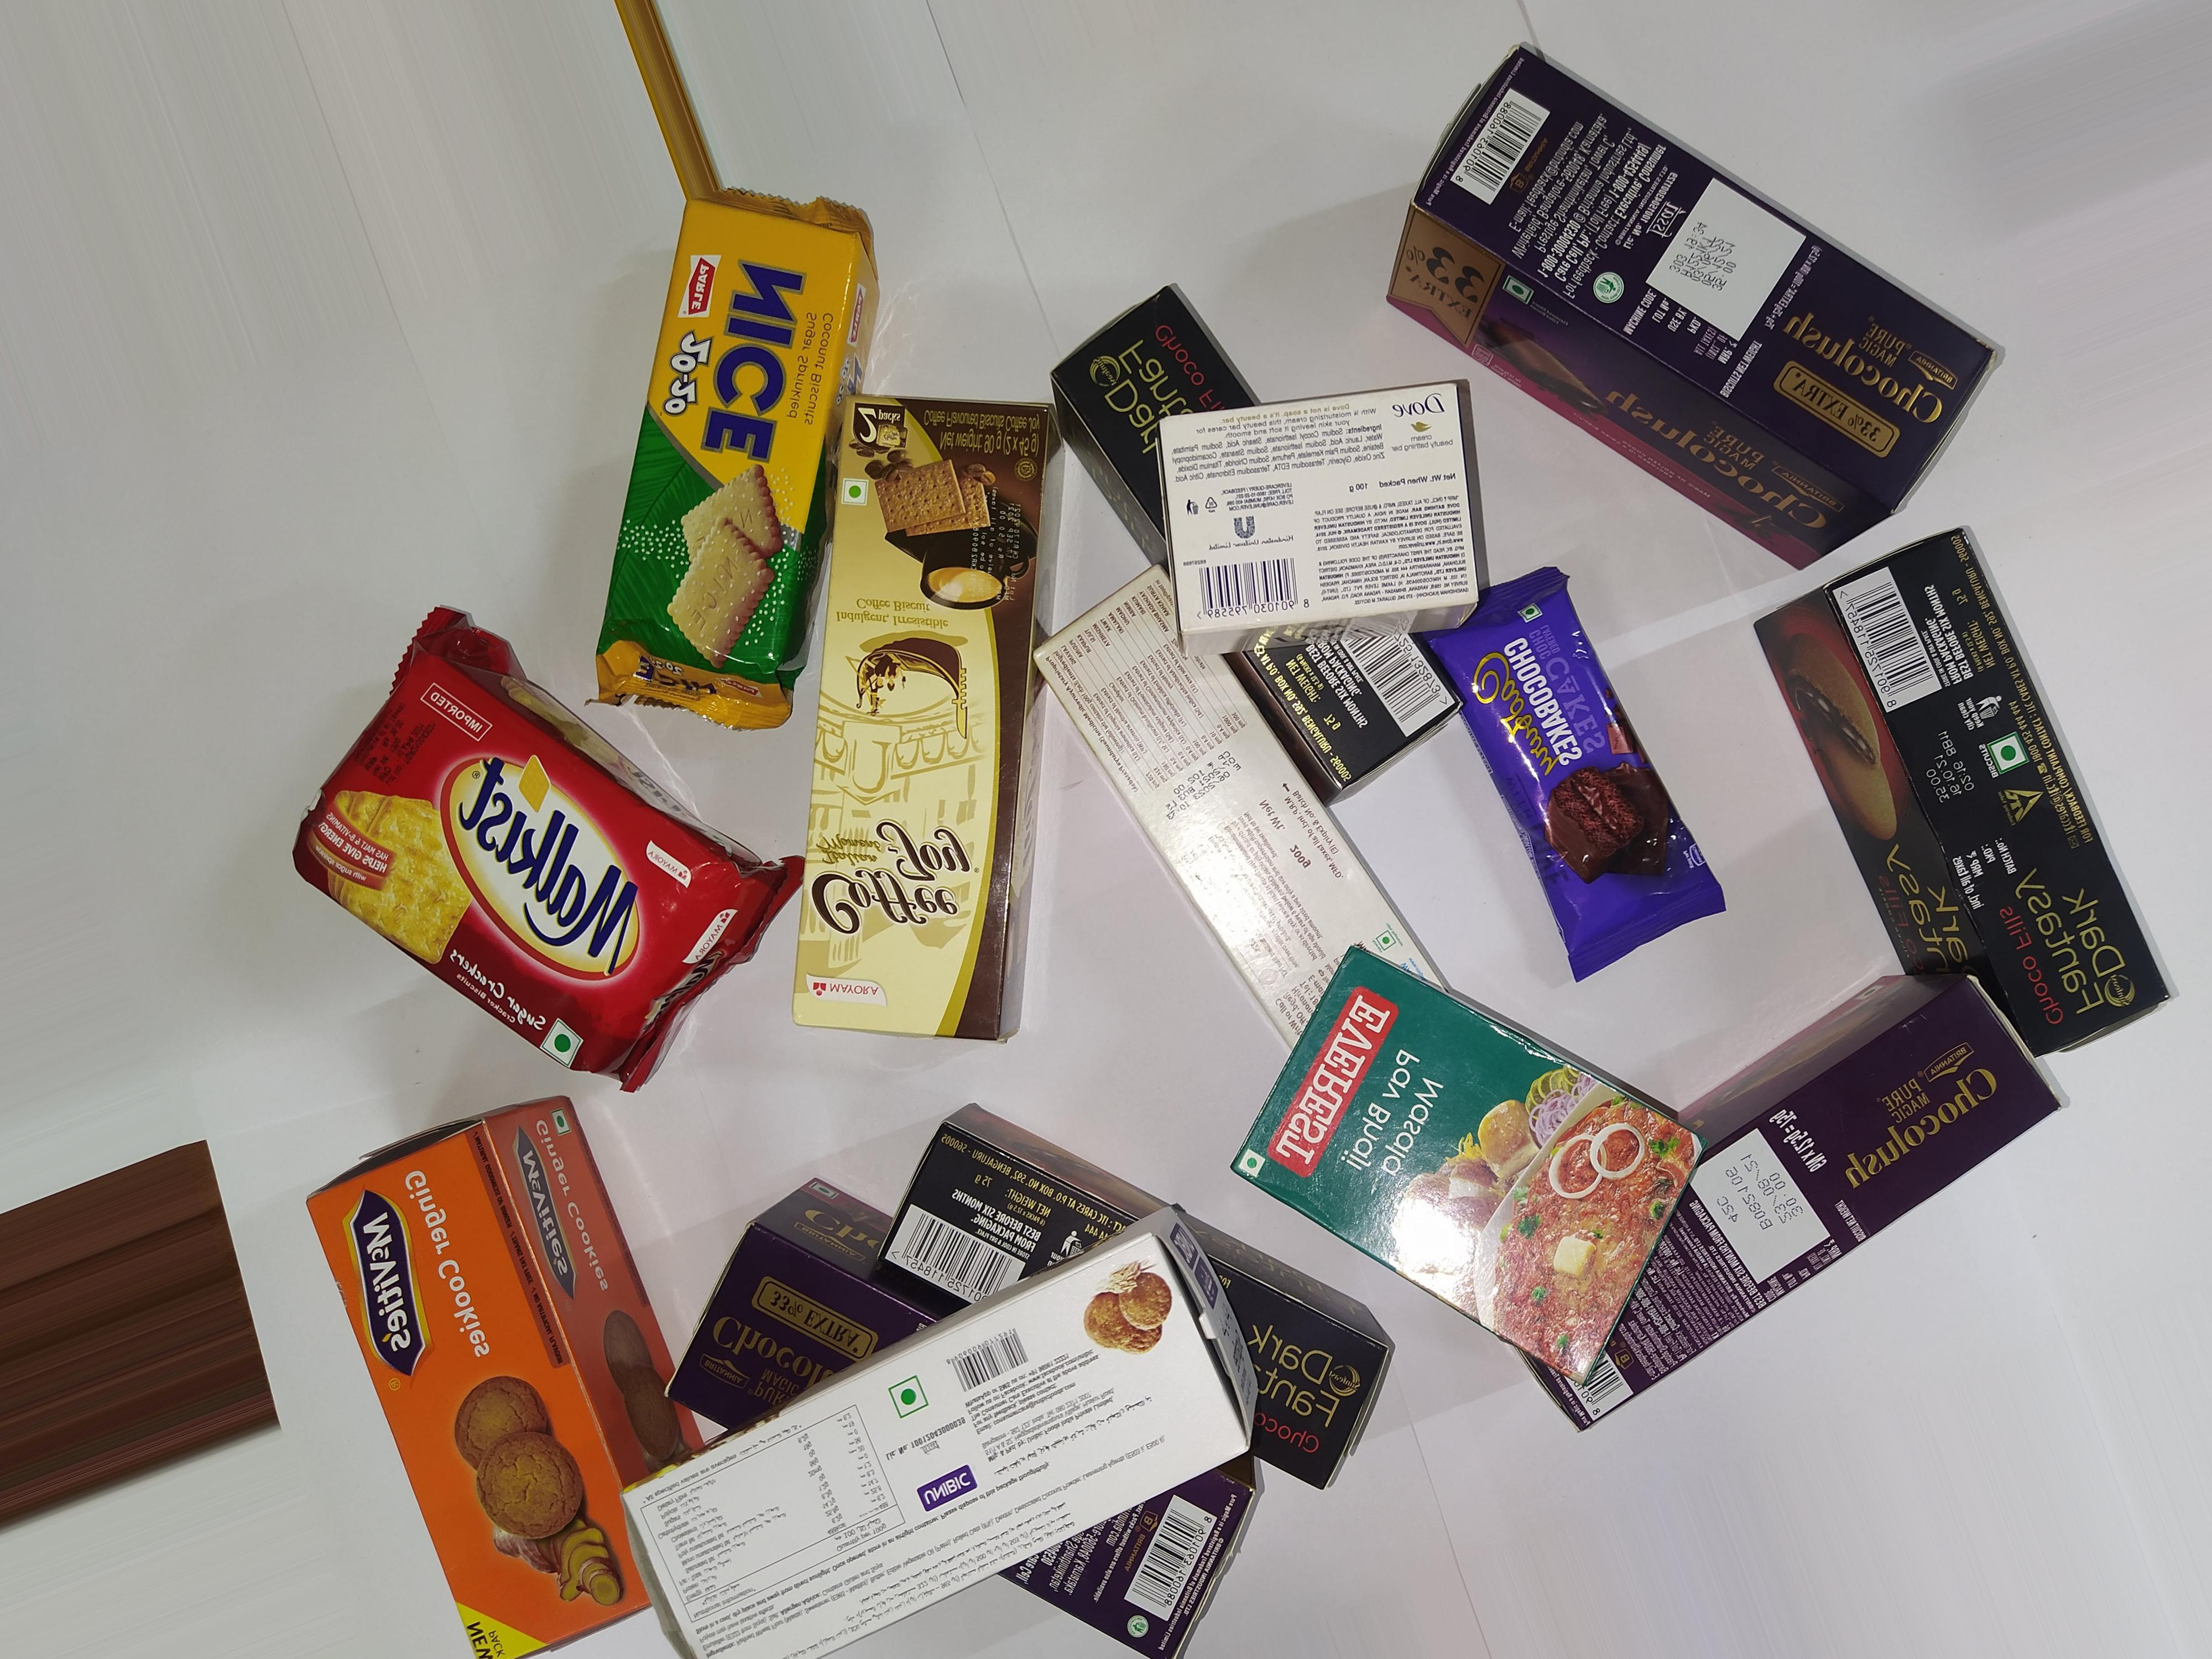Bar_code: (1799, 563, 1958, 728), (862, 1197, 1042, 1310), (1338, 615, 1472, 763), (1432, 70, 1554, 225), (1122, 1492, 1217, 1633), (1157, 554, 1322, 624), (1554, 1337, 1642, 1427), (932, 1328, 1047, 1382)
Item: (1390, 24, 2069, 572), (1743, 518, 2188, 1091), (277, 1108, 725, 1629), (270, 655, 782, 1101), (786, 375, 1062, 1079), (697, 1277, 1278, 1591), (1256, 969, 1683, 1391), (0, 1115, 336, 1528), (599, 181, 852, 730), (1428, 570, 1737, 981), (1679, 976, 2111, 1269), (1151, 376, 1501, 659)
